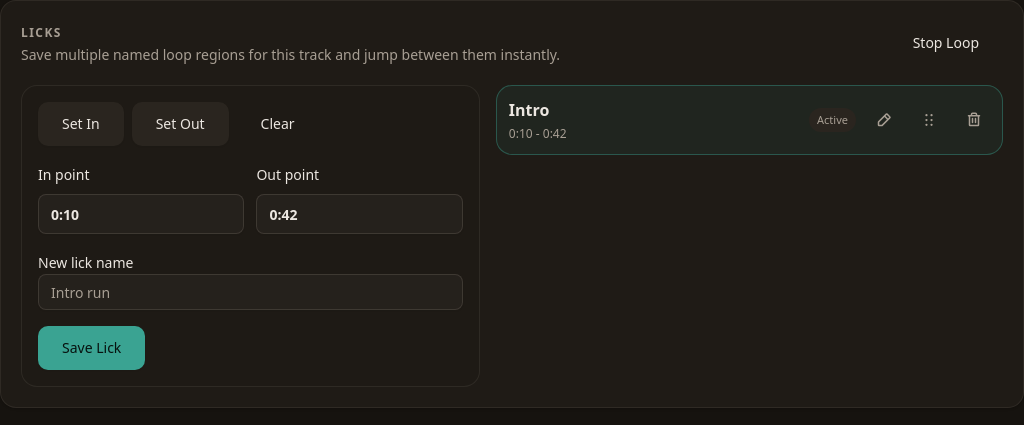
Scenario: LickPanel › stops the loaded loop and lets the same lick be loaded again
The width and height of the screenshot is (1024, 425).
Expected: the text "Active" is shown, [809, 108, 856, 132]
Expected: the button "Save Lick" is shown, [38, 326, 145, 370]
Click the button "Stop Loop" at point(946, 43), box [889, 21, 1003, 65]
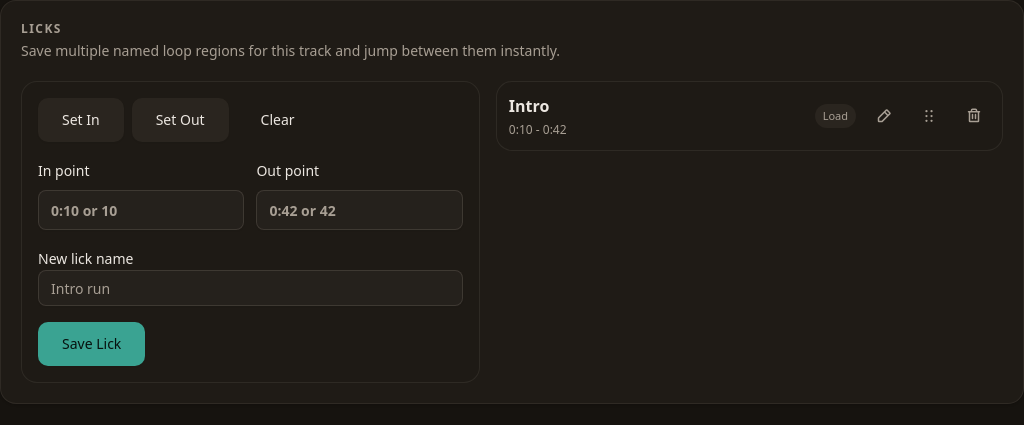
Now the button "Active" is gone
Now the text "Load" is shown, box [815, 104, 856, 128]
Now the button "Stop Loop" is gone
Click the button "Intro 0:10 - 0:42 Load" at point(529, 106), box [509, 94, 856, 138]
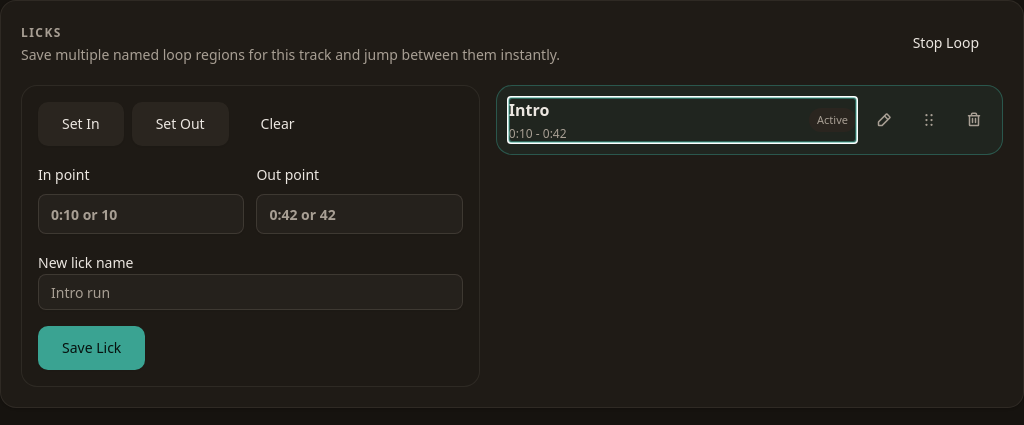
Expected: the button "Save Lick" is shown, [38, 326, 145, 370]
Now the text "Active" is shown, box [809, 108, 856, 132]
Now the button "Stop Loop" is shown, box [889, 21, 1003, 65]
